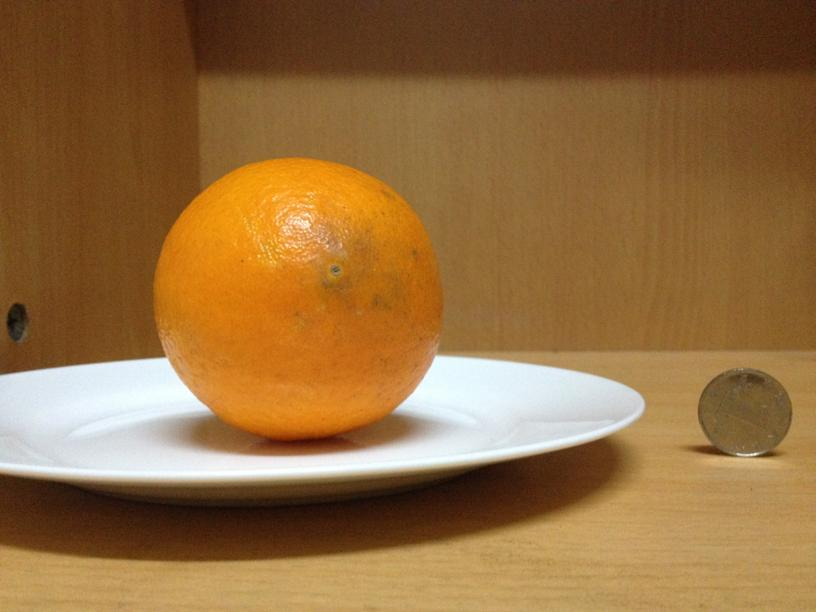coin: (696, 368, 791, 455)
orange: (155, 155, 439, 439)
